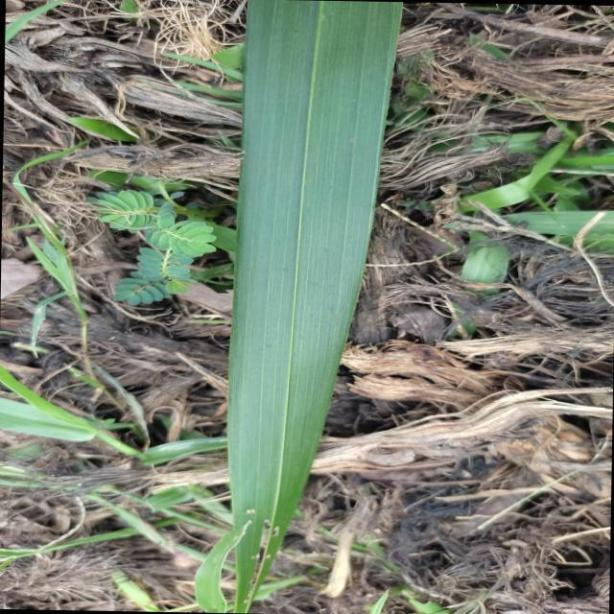Boron: (236, 0, 404, 614)
